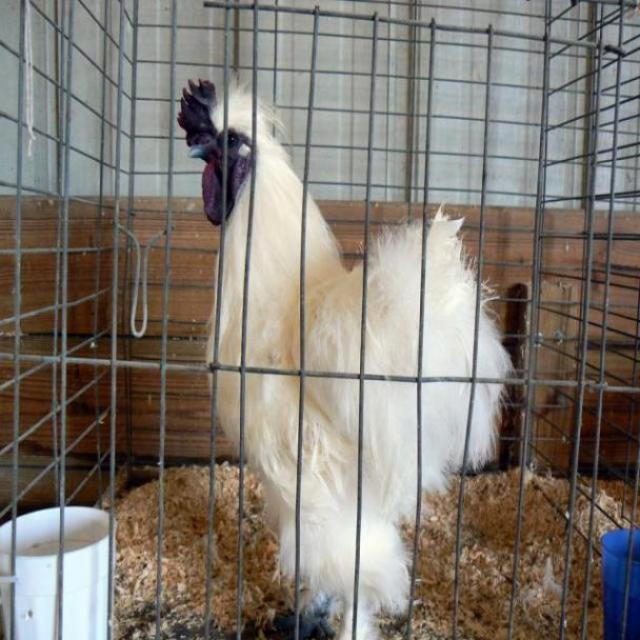Chicken: (183, 60, 503, 639)
